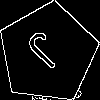J: (23, 28, 73, 78)
